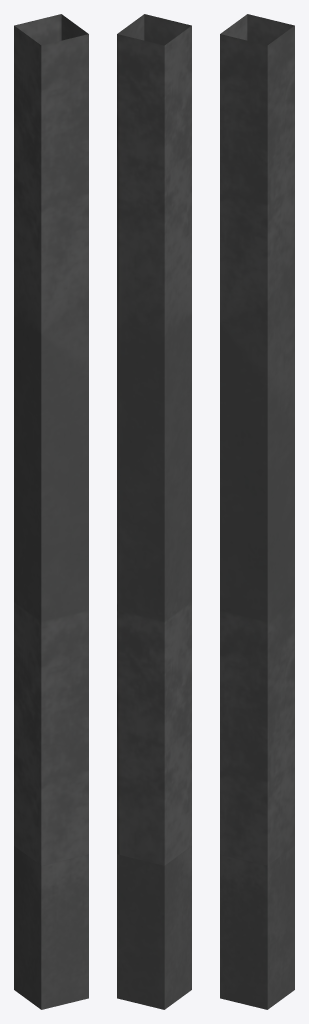
Rendered from pole_roof_100cm.obj.
3 renders of one model, left to right at view 1: azimuth 30°, elevation 25°; view 2: azimuth 150°, elevation 25°; view 3: azimuth 330°, elevation 25°, orthographic.
Parts seen in each view (by area): view 1: pole_r100, pole_end_r100; view 2: pole_r100, pole_end_r100; view 3: pole_r100, pole_end_r100.
Part boxes in pixels (x1,y1,x2,y2): pole_r100: [14, 14, 88, 865]; pole_end_r100: [14, 846, 88, 1009]; pole_r100: [117, 14, 191, 865]; pole_end_r100: [117, 846, 191, 1009]; pole_r100: [220, 14, 294, 865]; pole_end_r100: [220, 846, 294, 1009].
Size of the model in its own units: 0.0604 by 1.18 by 0.0604.
1 material, 1 textured.
